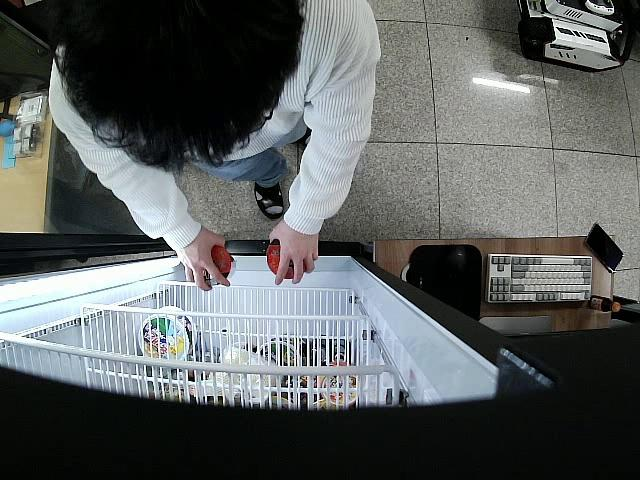00_hand: (173, 228, 230, 289), (269, 219, 317, 287)
02_shinRamen_S: (265, 240, 306, 279), (203, 243, 236, 285)
